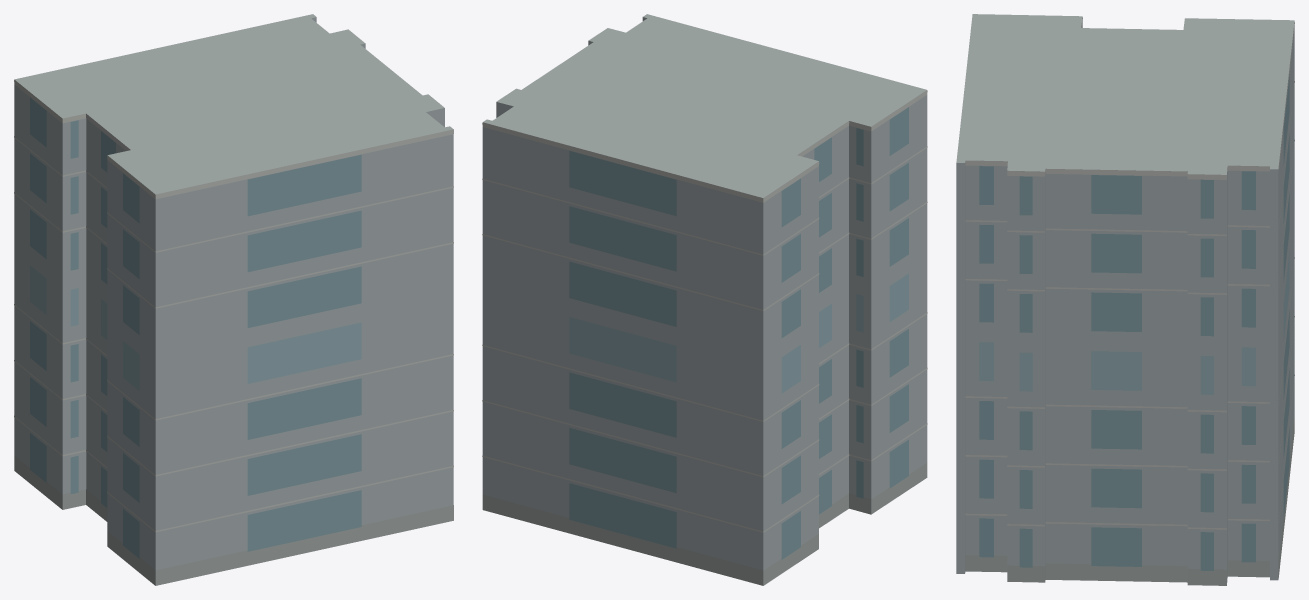
The model's file is survey-upis-32990084.glb.
3 views of the same model, side by side, from view 1: azimuth 30°, elevation 25°; view 2: azimuth 150°, elevation 25°; view 3: azimuth 270°, elevation 25° (orthographic). The views are drawn at different scales.
Parts seen in each view (by area): view 1: survey-upis-32990084.tmp; view 2: survey-upis-32990084.tmp; view 3: survey-upis-32990084.tmp.
Boxes of the visible parts, x1,y1,x2,y2 form: survey-upis-32990084.tmp: (14, 14, 453, 585); survey-upis-32990084.tmp: (482, 14, 927, 585); survey-upis-32990084.tmp: (956, 14, 1294, 585).
Bounding box in the file's own units: 16.73 × 19.9 × 14.87.
